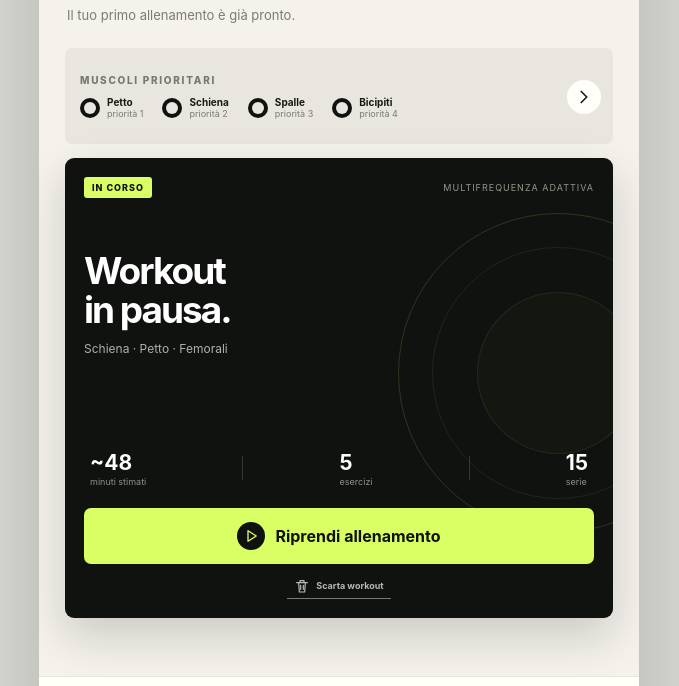
Test: work sets can be appended and the final unfinished set removed manually
(page scrolled)
Click the button "Riprendi allenamento".
click(339, 536)  # box [84,508,594,564]
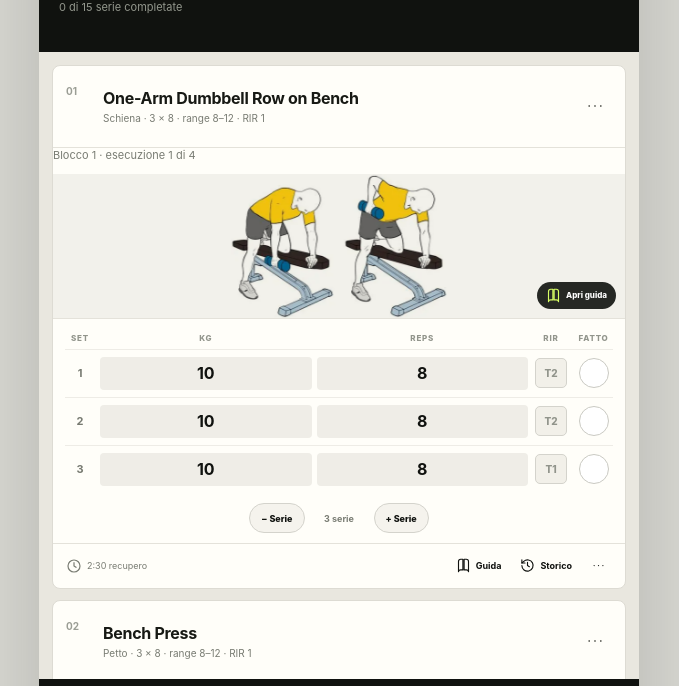
Click the button "+ Serie".
click(401, 518)  # box [374,503,429,533]
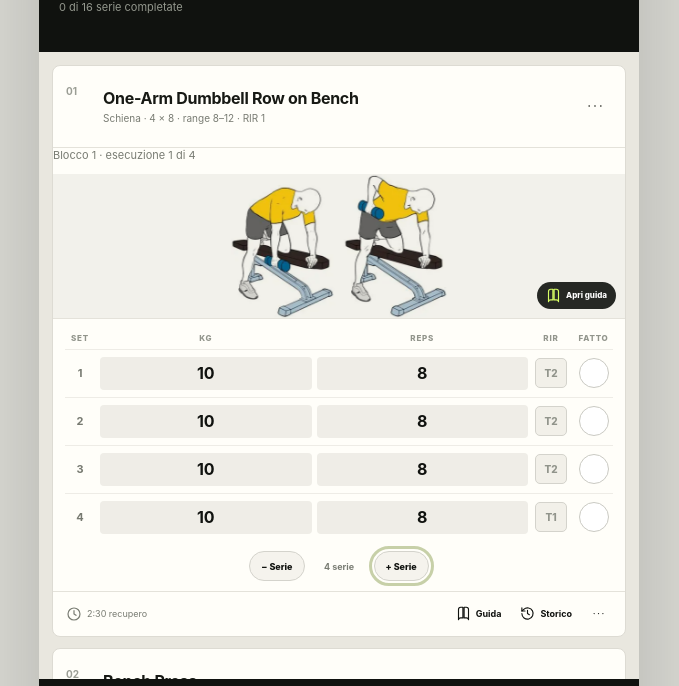
Now the number of fields named "Ripetizioni set" is 4, box [316,357,528,390]; [316,405,528,438]; [316,453,528,486]; [316,501,528,534]
Click the button "− Serie".
click(277, 566)  # box [249,551,305,581]
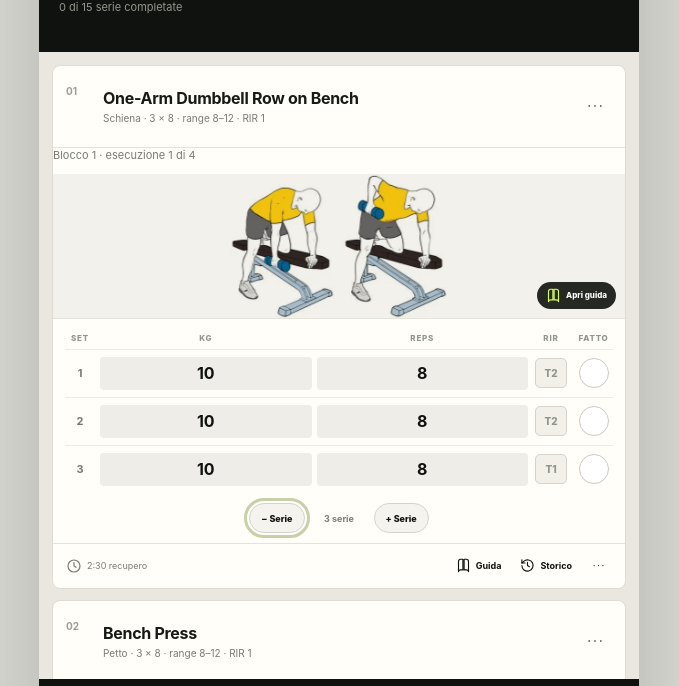
Now the number of fields named "Ripetizioni set" is 3, box [316,357,528,390]; [316,405,528,438]; [316,453,528,486]
